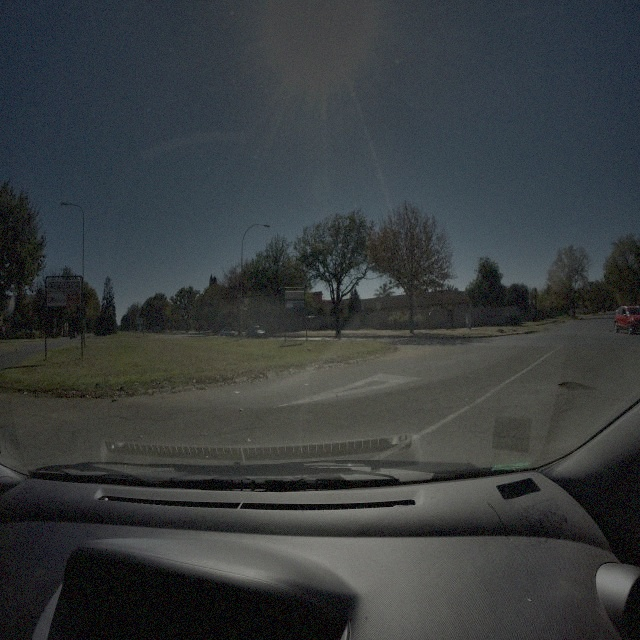pothole: (556, 378, 596, 394)
